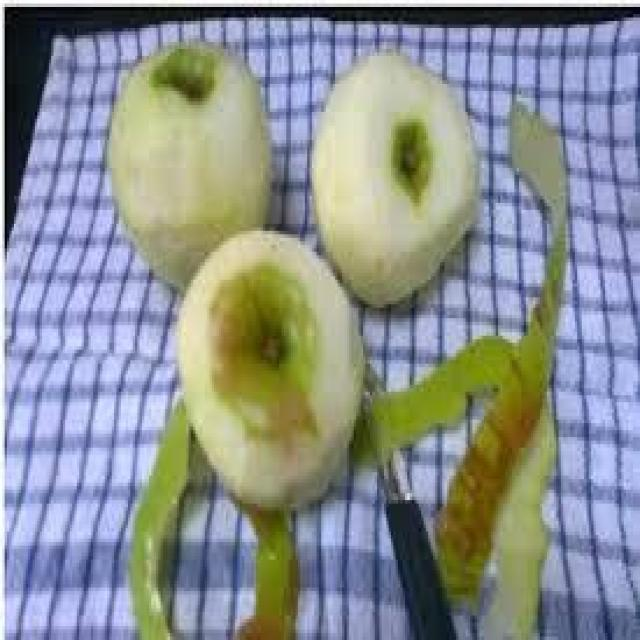maca: (174, 224, 366, 511), (310, 49, 480, 308), (105, 38, 272, 294)
